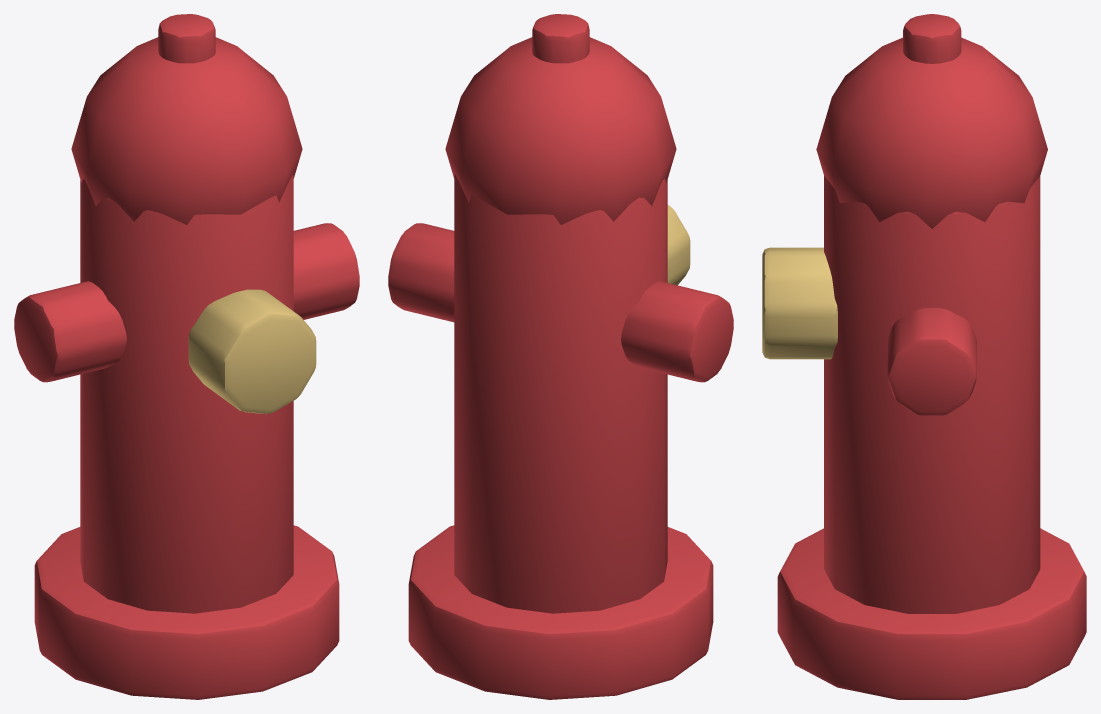
Rendered from hidrante.glb.
The picture shows the model from 3 angles, left to right: view 1: azimuth 30°, elevation 25°; view 2: azimuth 150°, elevation 25°; view 3: azimuth 270°, elevation 25°; orthographic projection.
Visible parts, largest first — view 1: Cylinder; view 2: Cylinder; view 3: Cylinder.
Boxes of the visible parts, box(x1,y1,x2,y2) form: Cylinder: box(14, 14, 359, 699); Cylinder: box(388, 14, 733, 699); Cylinder: box(762, 14, 1086, 699).
Size of the model in its own units: 0.46 by 0.88 by 0.42.
